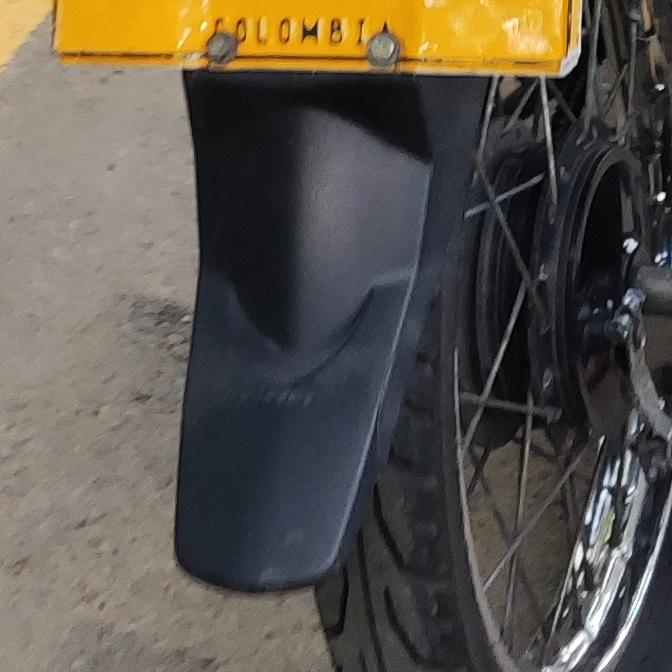plates: (51, 0, 580, 80)
